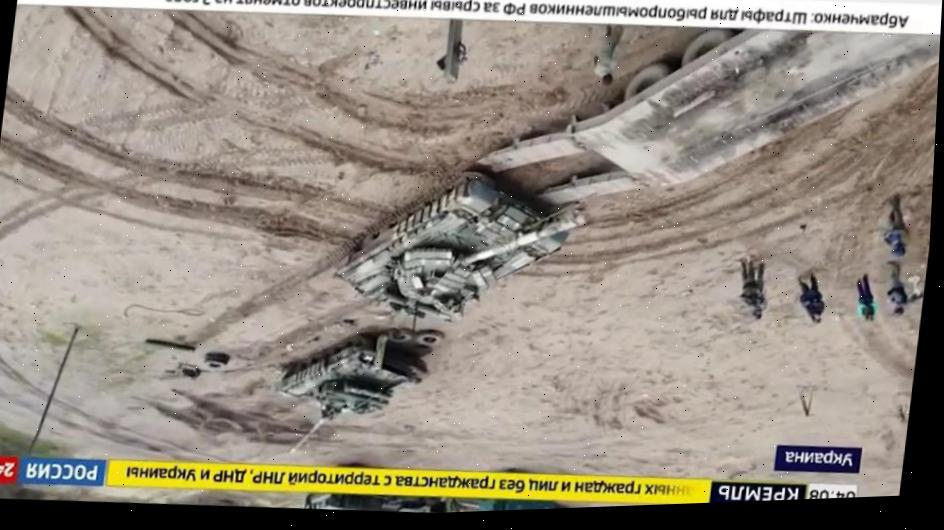person: (880, 194, 915, 258), (590, 23, 624, 87), (793, 272, 829, 325), (879, 261, 912, 318), (736, 256, 769, 311), (852, 272, 881, 323)
tank: (326, 160, 595, 335), (271, 327, 434, 465)
